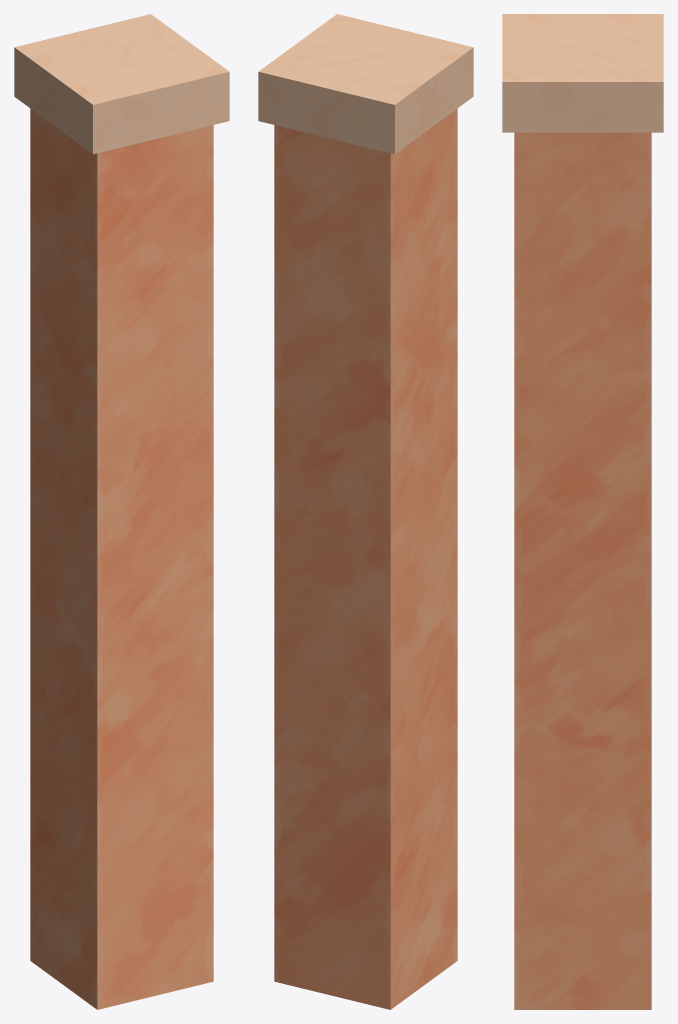
File: corner2_upper.bundle.fbx
3 renders of one model, left to right at view 1: azimuth 30°, elevation 25°; view 2: azimuth 150°, elevation 25°; view 3: azimuth 270°, elevation 25°, orthographic. The views are drawn at different scales.
Parts seen in each view (by area): view 1: corner2_upper, corner2_upper_s01, corner2_upper_s03, corner2_upper_s02, corner2_upper_s00; view 2: corner2_upper, corner2_upper_s03, corner2_upper_s01, corner2_upper_s00, corner2_upper_s02; view 3: corner2_upper, corner2_upper_s03, corner2_upper_s00, corner2_upper_s01, corner2_upper_s02.
Part boxes in pixels (x1,y1,x2,y2): corner2_upper: [14, 14, 229, 1009]; corner2_upper_s01: [16, 37, 215, 507]; corner2_upper_s03: [30, 652, 213, 1008]; corner2_upper_s02: [30, 402, 213, 703]; corner2_upper_s00: [62, 14, 229, 450]; corner2_upper: [258, 14, 473, 1009]; corner2_upper_s03: [274, 655, 457, 1009]; corner2_upper_s01: [347, 18, 471, 457]; corner2_upper_s00: [258, 14, 351, 456]; corner2_upper_s02: [274, 432, 457, 699]; corner2_upper: [502, 14, 663, 1009]; corner2_upper_s03: [514, 709, 651, 1009]; corner2_upper_s00: [502, 37, 663, 473]; corner2_upper_s01: [502, 14, 663, 67]; corner2_upper_s02: [514, 478, 651, 712].
Bounding box in the file's own units: 1.88 × 12 × 1.88.
1 material, 1 textured.
